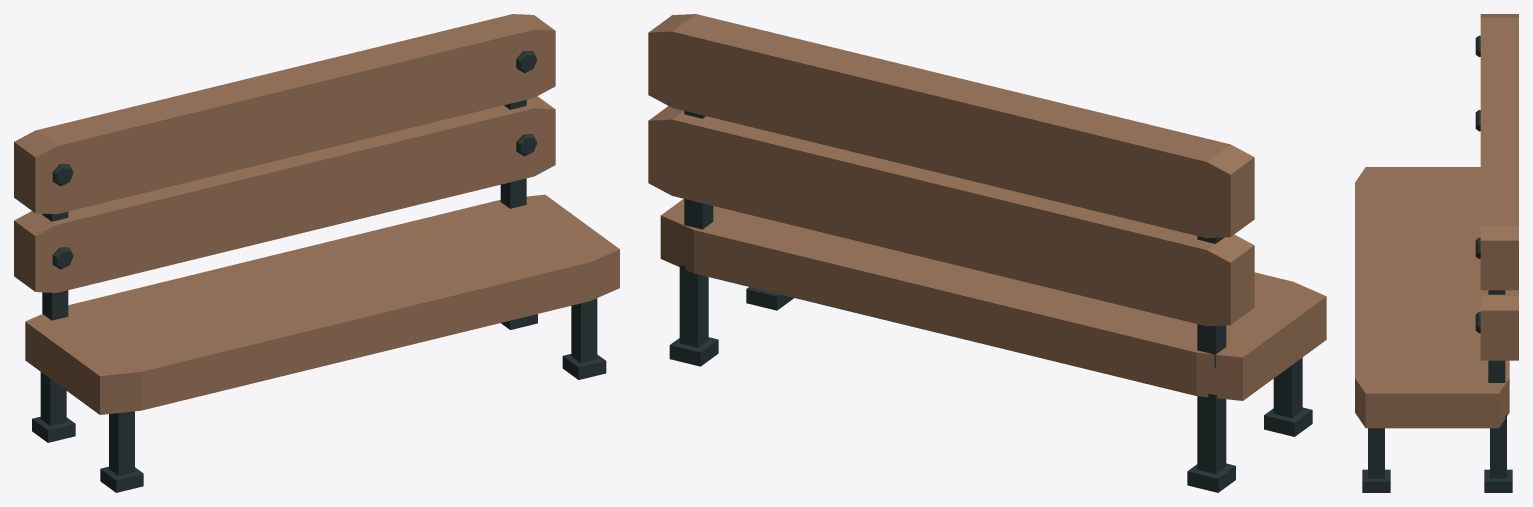
The model's file is bancas.fbx.
3 renders of one model, left to right at view 1: azimuth 30°, elevation 25°; view 2: azimuth 150°, elevation 25°; view 3: azimuth 270°, elevation 25°, orthographic. The views are drawn at different scales.
Visible parts, largest first — view 1: Cube.039; view 2: Cube.039; view 3: Cube.039.
Boxes of the visible parts, x1=… form: Cube.039: x1=14, y1=14, x2=619, y2=492; Cube.039: x1=648, y1=14, x2=1326, y2=492; Cube.039: x1=1355, y1=14, x2=1518, y2=492.
Size of the model in its own units: 233 by 127 by 71.28.
